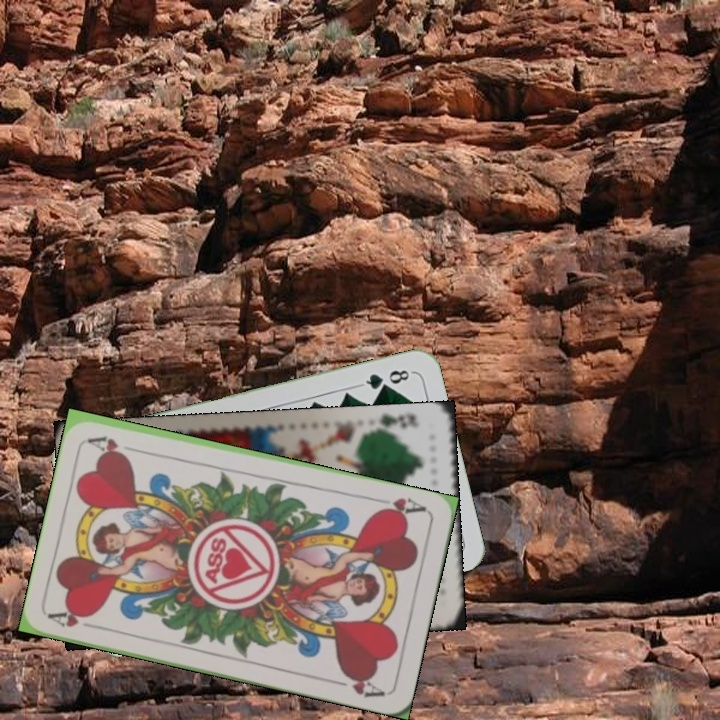G8: (357, 365, 415, 393)
GK: (370, 410, 420, 438)
HA: (46, 605, 105, 633), (371, 493, 430, 520)
